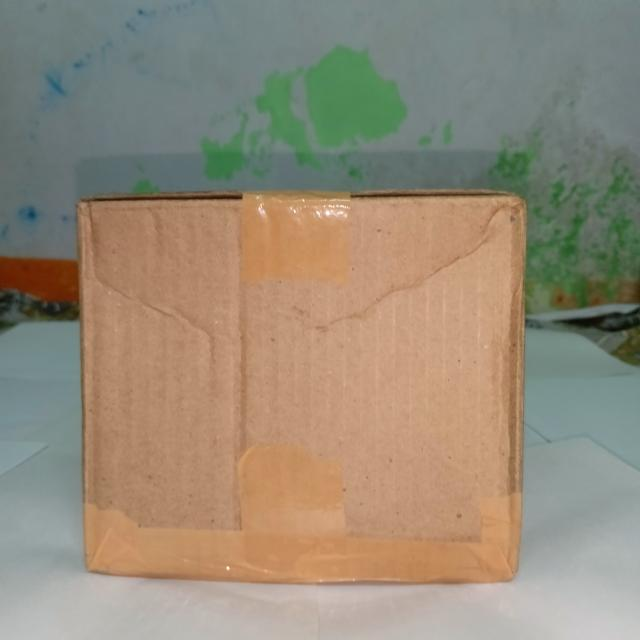box: (77, 191, 529, 588)
